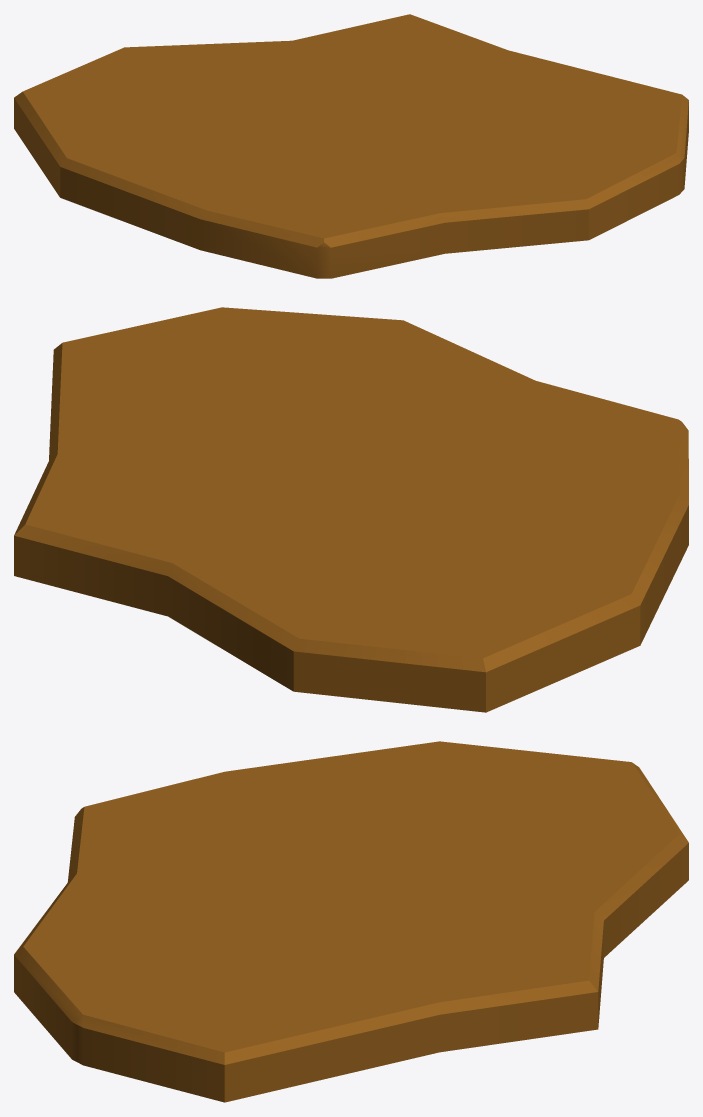
File: Rock_Flat_1.FBX
3 renders of one model, top to bottom at view 1: azimuth 30°, elevation 25°; view 2: azimuth 150°, elevation 25°; view 3: azimuth 270°, elevation 25°, orthographic. The views are drawn at different scales.
Parts seen in each view (by area): view 1: Rock_Flat_1; view 2: Rock_Flat_1; view 3: Rock_Flat_1.
Part boxes in pixels (left/top/right/bottom): Rock_Flat_1: left=14, top=14, right=688, bottom=278; Rock_Flat_1: left=14, top=307, right=688, bottom=712; Rock_Flat_1: left=14, top=741, right=688, bottom=1102.
Bounding box in the file's own units: 12.77 × 0.8604 × 11.41.
